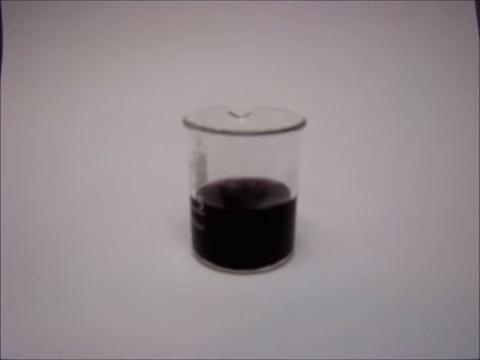Beaker: (176, 91, 307, 276)
